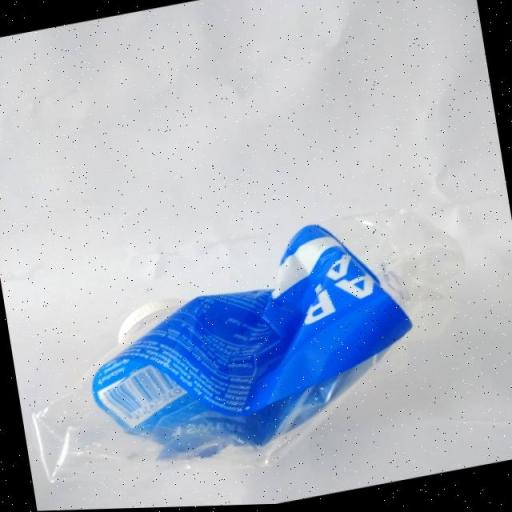plastic: (0, 194, 502, 512)
